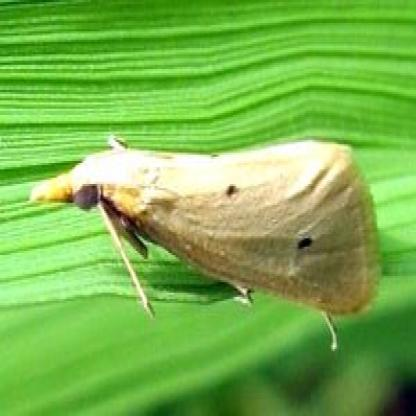stem-borer: (28, 130, 383, 355)
